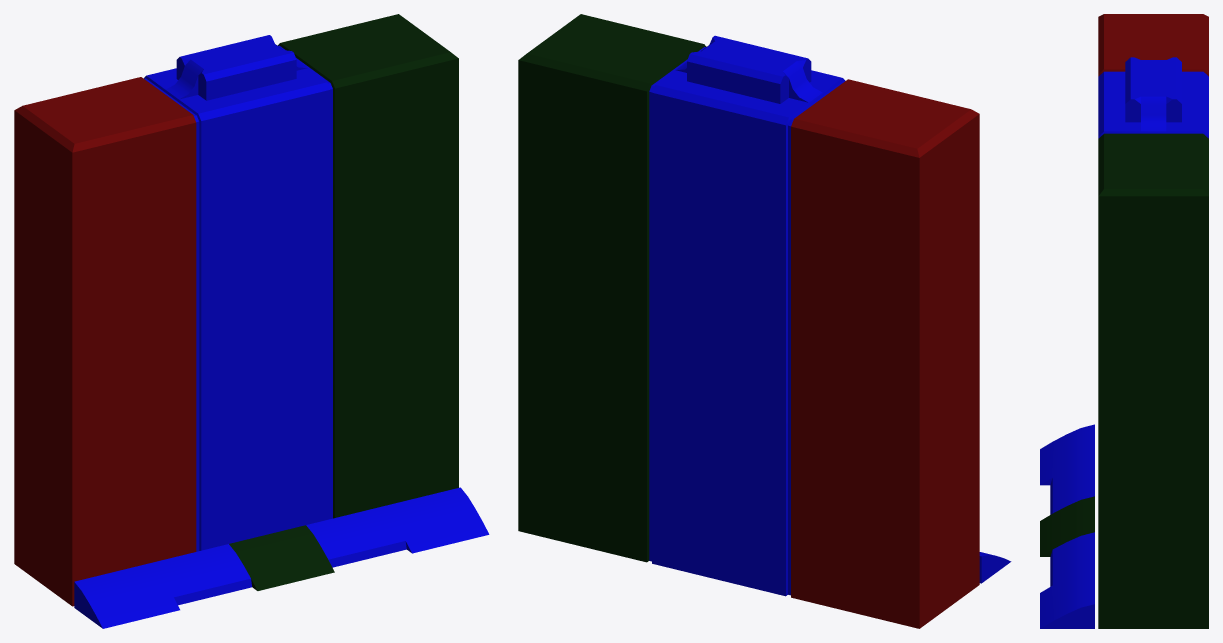
The model's file is SM_DefenseWallClean01.FBX.
3 renders of one model, left to right at view 1: azimuth 30°, elevation 25°; view 2: azimuth 150°, elevation 25°; view 3: azimuth 270°, elevation 25°, orthographic. The views are drawn at different scales.
Parts seen in each view (by area): view 1: Object010, Object014; view 2: Object010; view 3: Object010, Object014.
Boxes of the visible parts, x1,y1,x2,y2 form: Object010: [14, 14, 458, 606]; Object014: [74, 487, 489, 628]; Object010: [518, 14, 979, 628]; Object010: [1098, 14, 1208, 628]; Object014: [1040, 424, 1094, 628].
Bounding box in the file's own units: 1000 × 1196 × 397.
